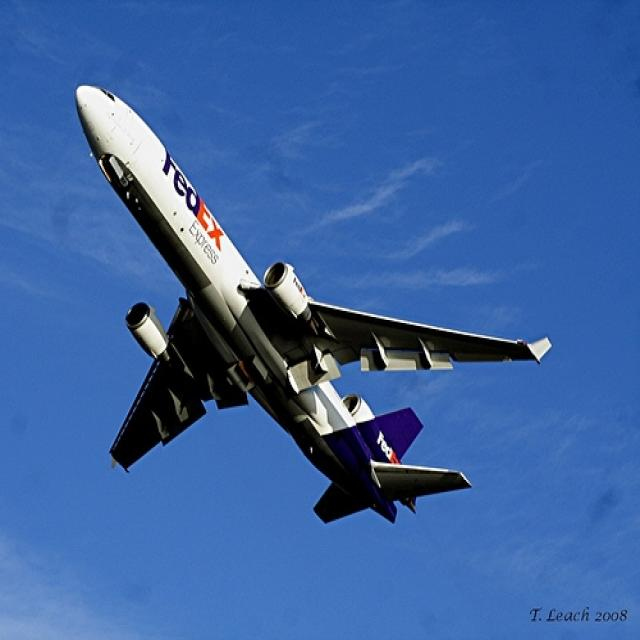fedex: (160, 154, 230, 255)
